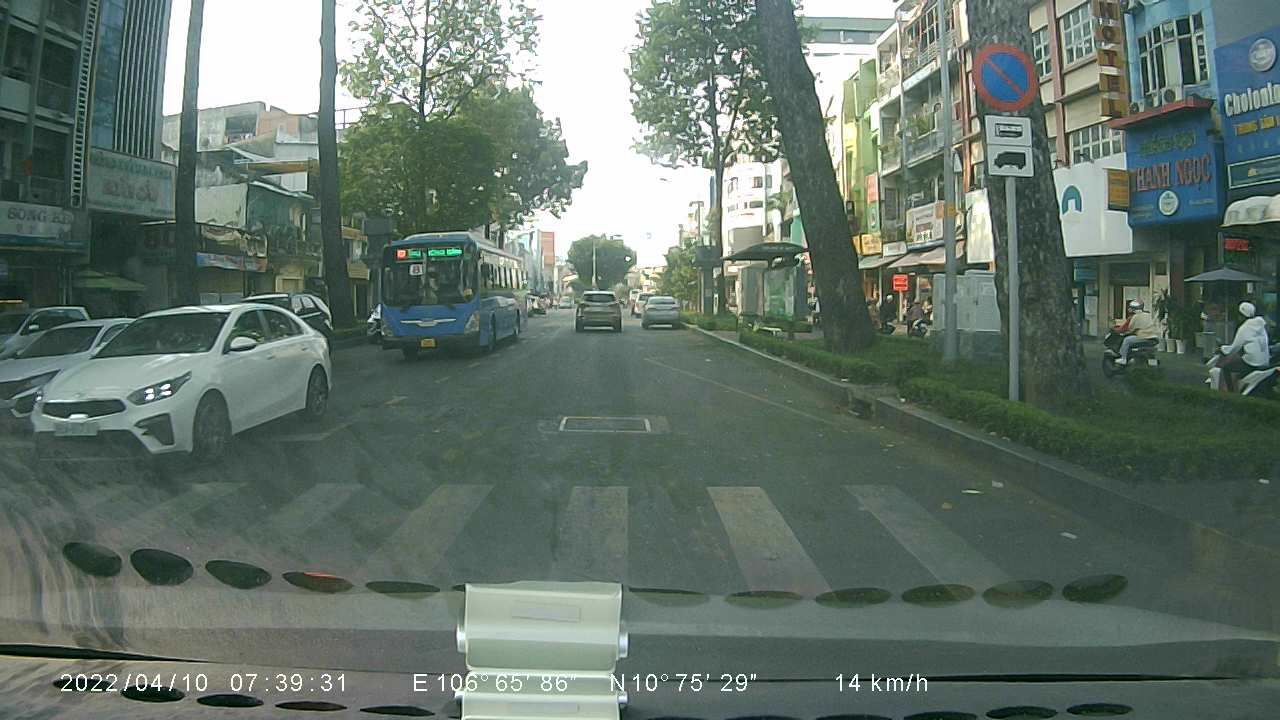Cam do xe: (964, 38, 1040, 114)
